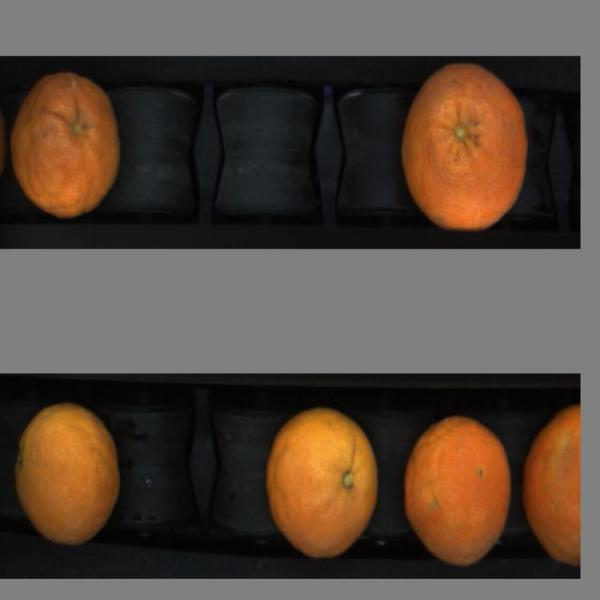Otros defectos: (399, 408, 520, 571), (523, 399, 584, 568)
Sana: (398, 63, 536, 234), (260, 402, 385, 563), (7, 68, 123, 227), (13, 399, 130, 556)
